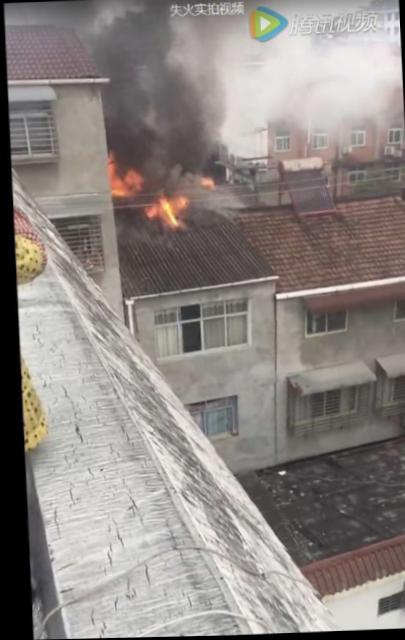fire: (144, 198, 175, 225), (103, 157, 112, 192), (108, 181, 127, 196), (121, 169, 136, 188)
